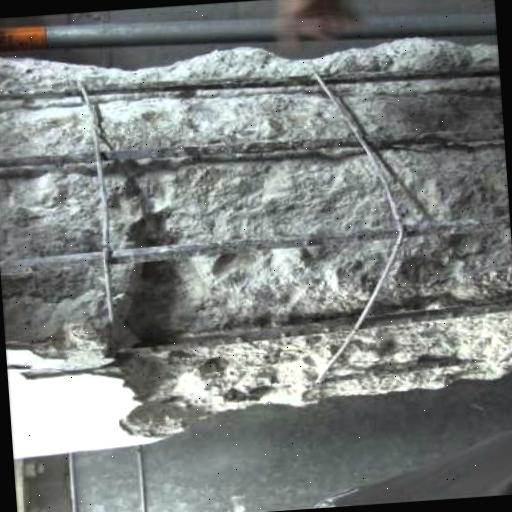spalling: (0, 33, 512, 438)
